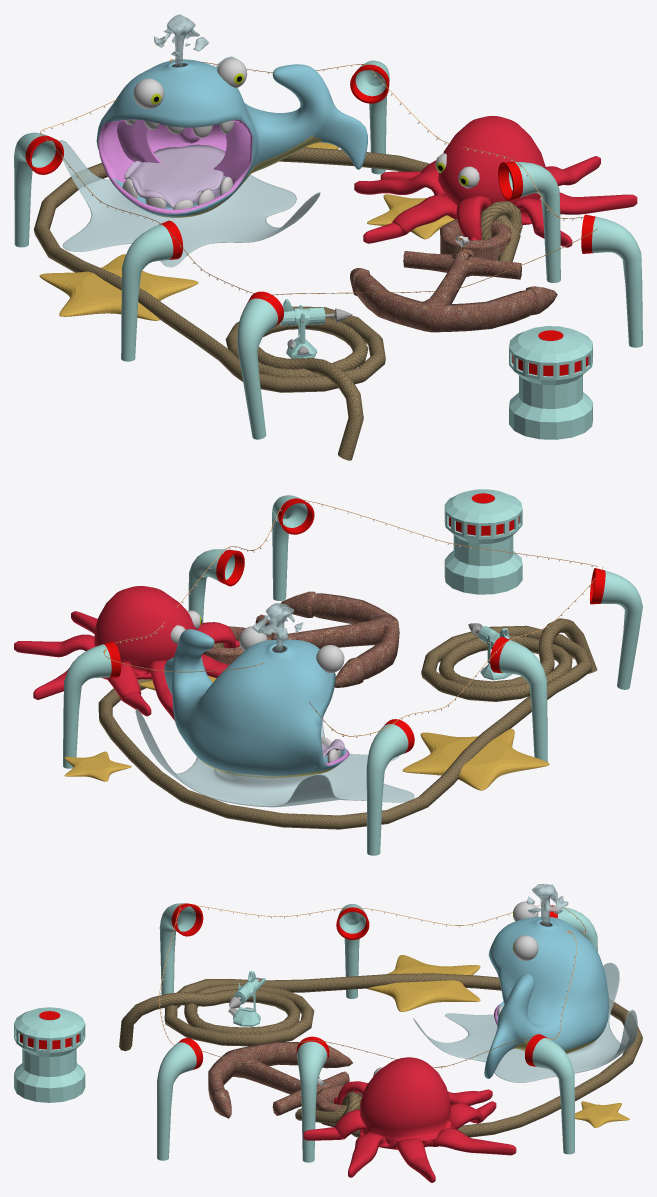
Rendered from whalestage.fbx.
The picture shows the model from 3 angles, top to bottom: view 1: azimuth 30°, elevation 25°; view 2: azimuth 150°, elevation 25°; view 3: azimuth 270°, elevation 25°; orthographic projection. The views are drawn at different scales.
Parts seen in each view (by area): view 1: Cube.002, NurbsPath, octopus, Circle.003, Cube, Cylinder.001, Cube.000, Circle, BezierCurve.001, BezierCurve.002, BezierCurve.003, BezierCurve (+7 smaller); view 2: Cube.002, NurbsPath, octopus, Cylinder.001, Cube, Circle.003, Circle, BezierCurve.004, BezierCurve.001, BezierCurve.005, BezierCurve.002, BezierCurve.003 (+5 smaller); view 3: Cube.002, NurbsPath, octopus, Cylinder.001, Cube, Circle.003, Circle, BezierCurve.005, BezierCurve.003, BezierCurve, BezierCurve.002, BezierCurve.001 (+5 smaller).
Boxes of the visible parts, x1=… form: Cube.002: x1=96, y1=14, x2=367, y2=217; NurbsPath: x1=34, y1=147, x2=522, y2=460; octopus: x1=354, y1=116, x2=637, y2=247; Circle.003: x1=350, y1=219, x2=557, y2=332; Cube: x1=59, y1=56, x2=320, y2=267; Cylinder.001: x1=509, y1=326, x2=592, y2=439; Cube.000: x1=124, y1=144, x2=225, y2=207; Circle: x1=39, y1=254, x2=198, y2=320; BezierCurve.001: x1=121, y1=220, x2=183, y2=361; BezierCurve.002: x1=237, y1=291, x2=283, y2=439; BezierCurve.003: x1=581, y1=214, x2=642, y2=347; BezierCurve: x1=498, y1=162, x2=560, y2=282; Cube.002: x1=164, y1=603, x2=349, y2=777; NurbsPath: x1=98, y1=618, x2=597, y2=829; octopus: x1=14, y1=586, x2=239, y2=720; Cylinder.001: x1=444, y1=489, x2=522, y2=594; Cube: x1=135, y1=709, x2=414, y2=807; Circle.003: x1=202, y1=591, x2=399, y2=687; Circle: x1=402, y1=728, x2=549, y2=790; BezierCurve.004: x1=366, y1=719, x2=414, y2=855; BezierCurve.001: x1=490, y1=637, x2=547, y2=762; BezierCurve.005: x1=63, y1=641, x2=121, y2=768; BezierCurve.002: x1=589, y1=568, x2=642, y2=689; BezierCurve.003: x1=272, y1=495, x2=314, y2=600; Cube.002: x1=484, y1=884, x2=608, y2=1078; NurbsPath: x1=119, y1=973, x2=642, y2=1137; octopus: x1=303, y1=1057, x2=516, y2=1182; Cylinder.001: x1=14, y1=1007, x2=85, y2=1102; Cube: x1=413, y1=962, x2=637, y2=1082; Circle.003: x1=208, y1=1041, x2=362, y2=1126; Circle: x1=367, y1=955, x2=480, y2=1011; BezierCurve.005: x1=525, y1=1034, x2=574, y2=1154; BezierCurve.003: x1=157, y1=1038, x2=203, y2=1160; BezierCurve: x1=296, y1=1036, x2=329, y2=1162; BezierCurve.002: x1=159, y1=903, x2=203, y2=1008; BezierCurve.001: x1=336, y1=904, x2=369, y2=998.
Bounding box in the file's own units: 2433 × 988 × 2826.
25 materials, 2 textured.
